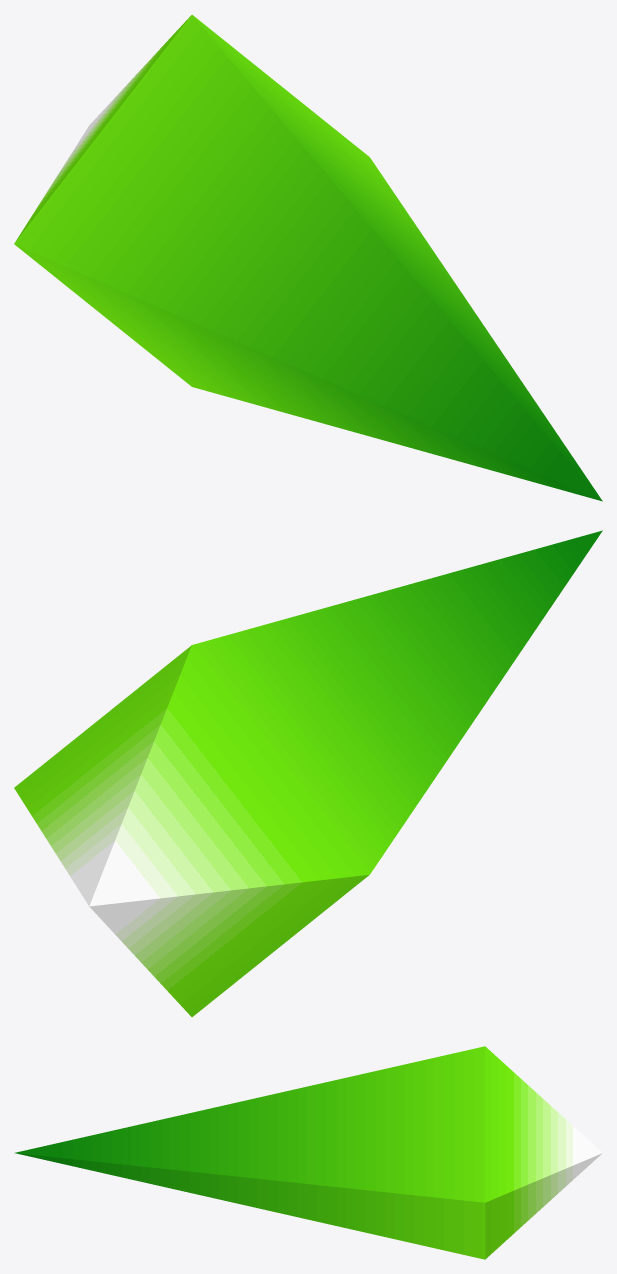
Rendered from Green.glb.
3 views of the same model, one above another, from view 1: azimuth 30°, elevation 25°; view 2: azimuth 150°, elevation 25°; view 3: azimuth 270°, elevation 25° (orthographic). The views are drawn at different scales.
Visible parts, largest first — view 1: Green; view 2: Green; view 3: Green.
Boxes of the visible parts, x1=… form: Green: x1=14, y1=15, x2=602, y2=501; Green: x1=14, y1=530, x2=602, y2=1016; Green: x1=15, y1=1046, x2=602, y2=1259.
Bounding box in the file's own units: 2 × 2 × 5.
Materials: 1 (1 with a texture image).
